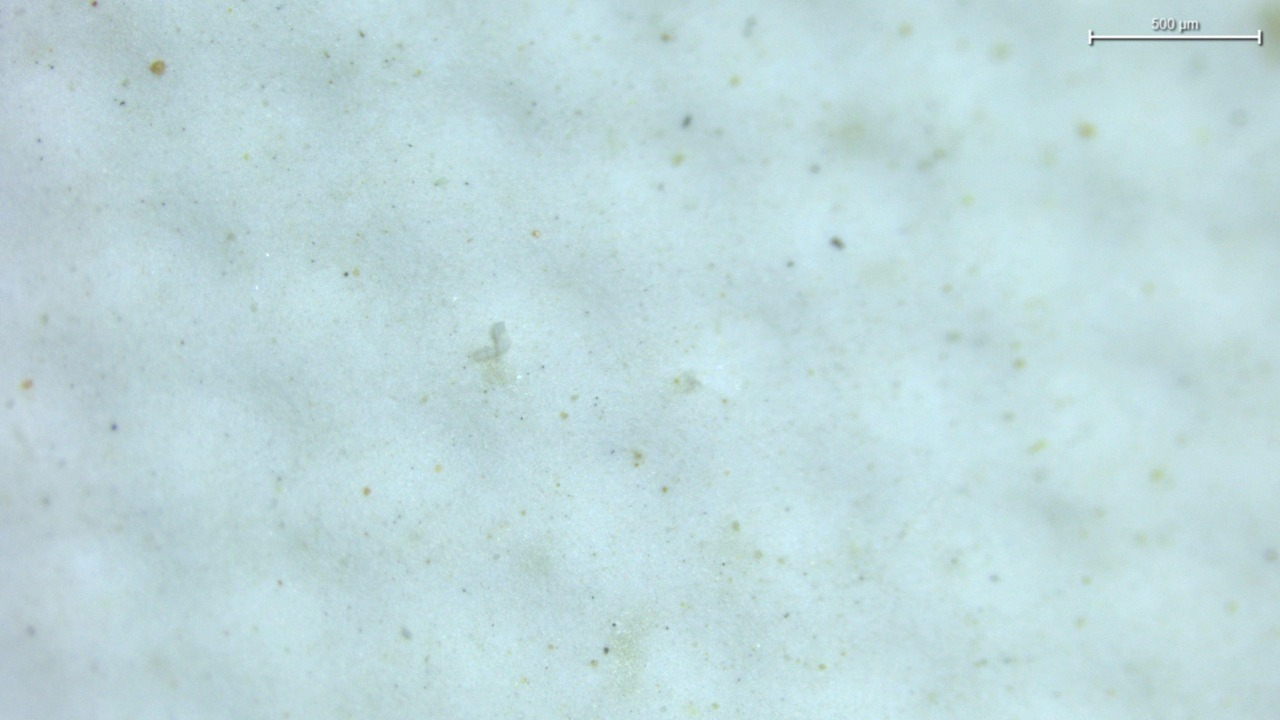microplastic_fragment: (473, 322, 510, 362)
